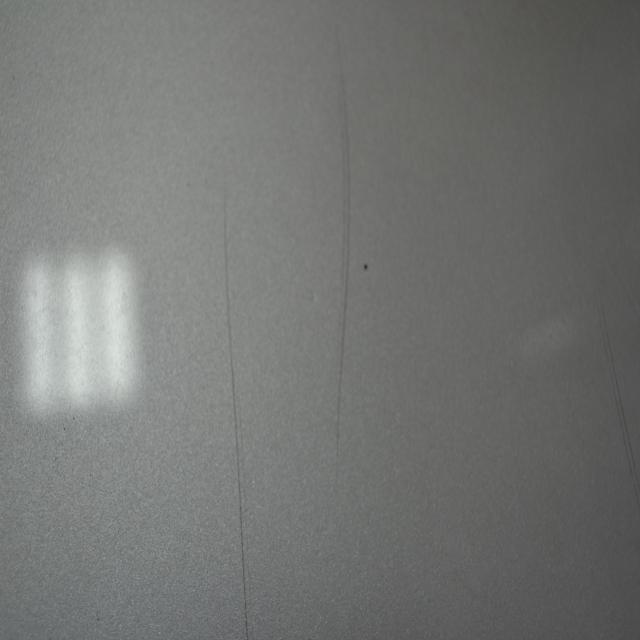dirt: (363, 261, 370, 272)
scratch: (218, 185, 250, 640), (325, 31, 356, 488), (592, 286, 640, 515)
